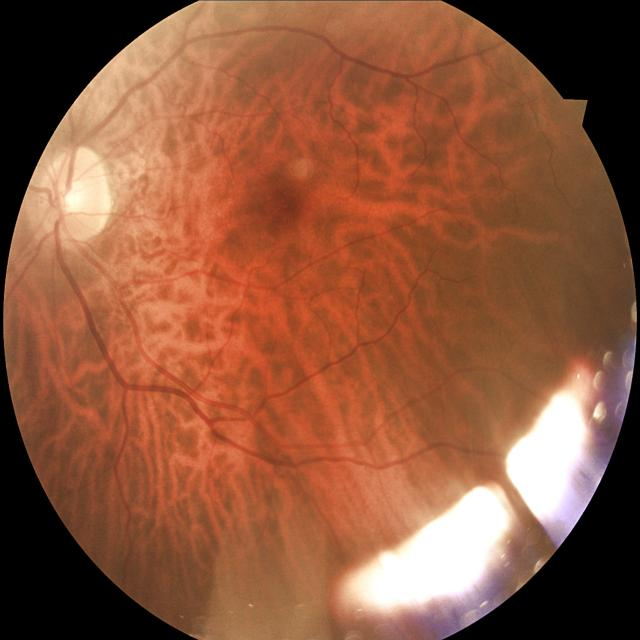OC: (54, 176, 90, 218)
OD: (23, 146, 112, 246)
